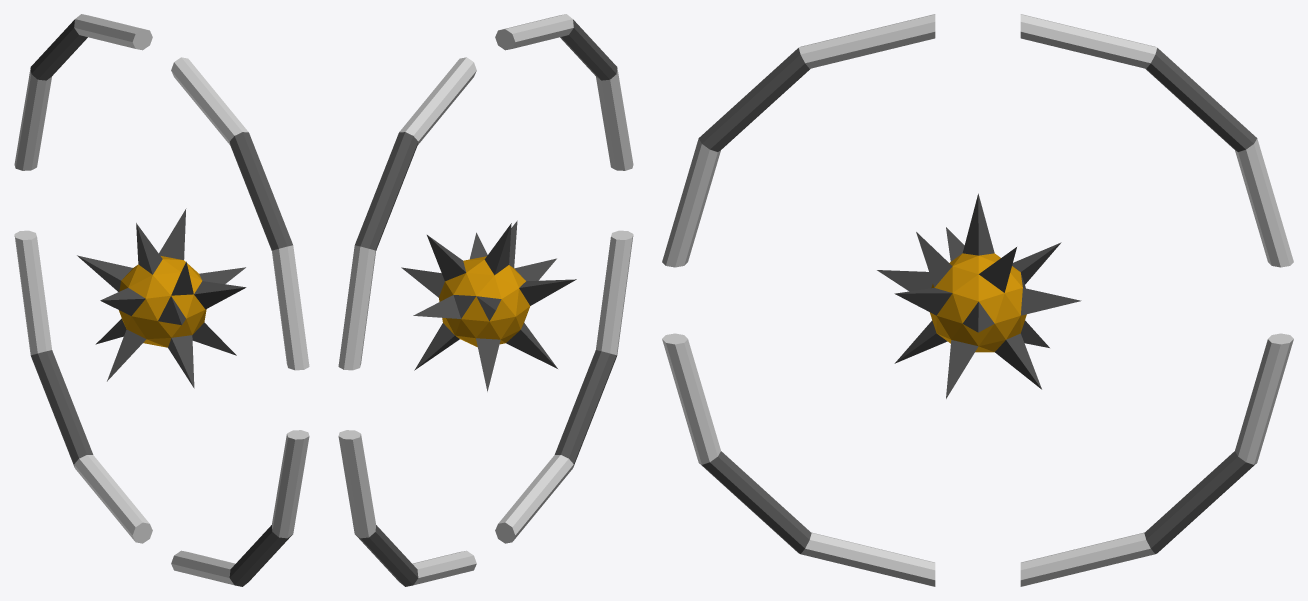
Rendered from grav_freeze_asset.fbx.
3 views of the same model, side by side, from view 1: azimuth 30°, elevation 25°; view 2: azimuth 150°, elevation 25°; view 3: azimuth 270°, elevation 25° (orthographic). The views are drawn at different scales.
Parts seen in each view (by area): view 1: grav_swap_arm.002, Grav_swap_sphere; view 2: grav_swap_arm.002, Grav_swap_sphere; view 3: grav_swap_arm.002, Grav_swap_sphere.
Boxes of the visible parts, bbox=[...] form: grav_swap_arm.002: bbox=[14, 14, 309, 586]; Grav_swap_sphere: bbox=[77, 208, 246, 388]; grav_swap_arm.002: bbox=[338, 14, 633, 586]; Grav_swap_sphere: bbox=[401, 220, 576, 391]; grav_swap_arm.002: bbox=[662, 14, 1293, 586]; Grav_swap_sphere: bbox=[877, 193, 1081, 398].
Bounding box in the file's own units: 398 × 1213 × 1214.
